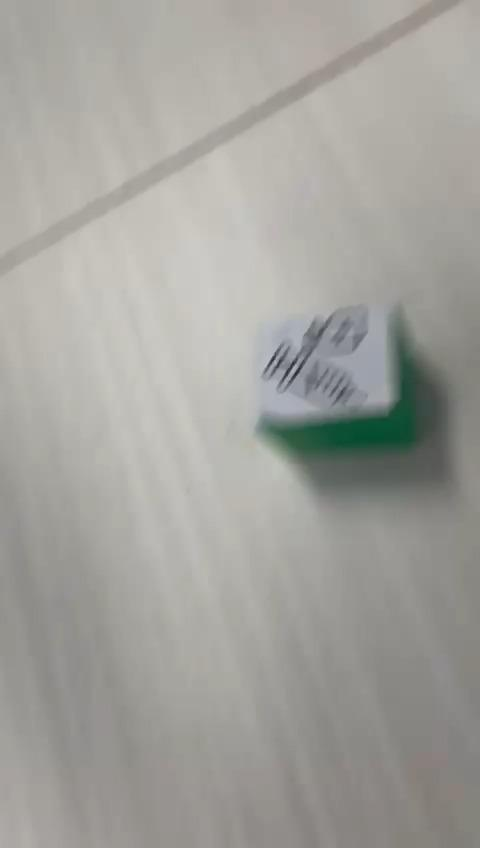antiseptic cream: (253, 298, 420, 453)
